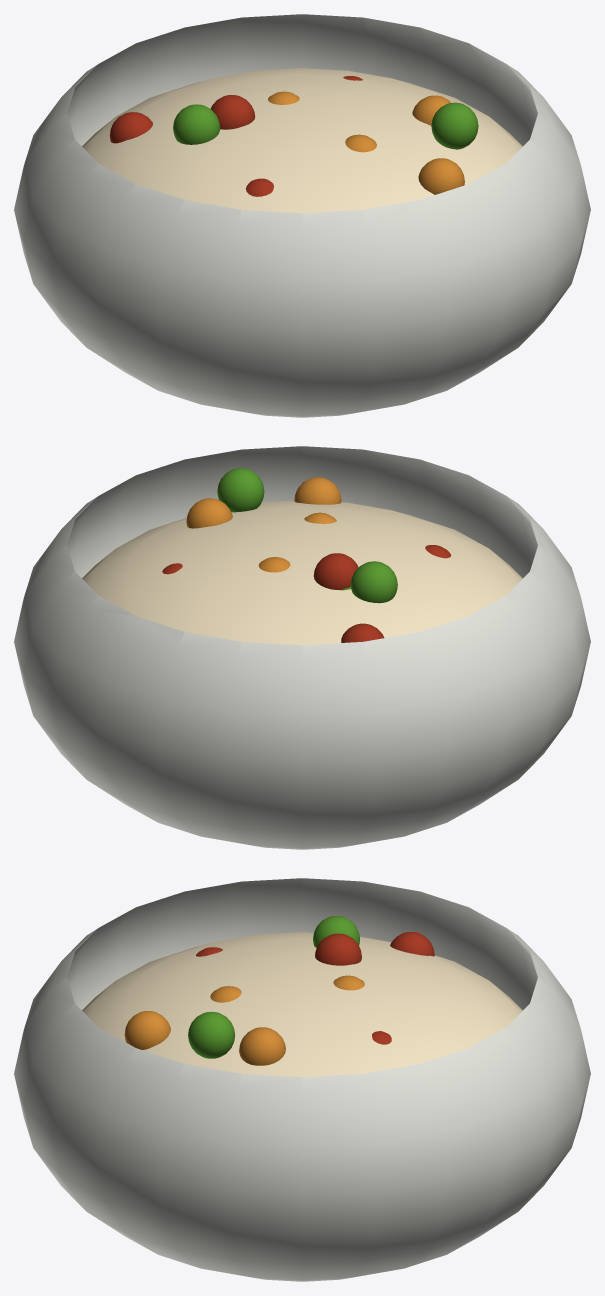
File: salad.glb
3 views of the same model, one above another, from view 1: azimuth 30°, elevation 25°; view 2: azimuth 150°, elevation 25°; view 3: azimuth 270°, elevation 25° (orthographic).
Parts seen in each view (by area): view 1: salad; view 2: salad; view 3: salad.
Part boxes in pixels (left/top/right/bottom): salad: left=14, top=14, right=590, bottom=417; salad: left=14, top=446, right=590, bottom=849; salad: left=14, top=878, right=590, bottom=1281.
Size of the model in its own units: 0.22 by 0.1188 by 0.22.
